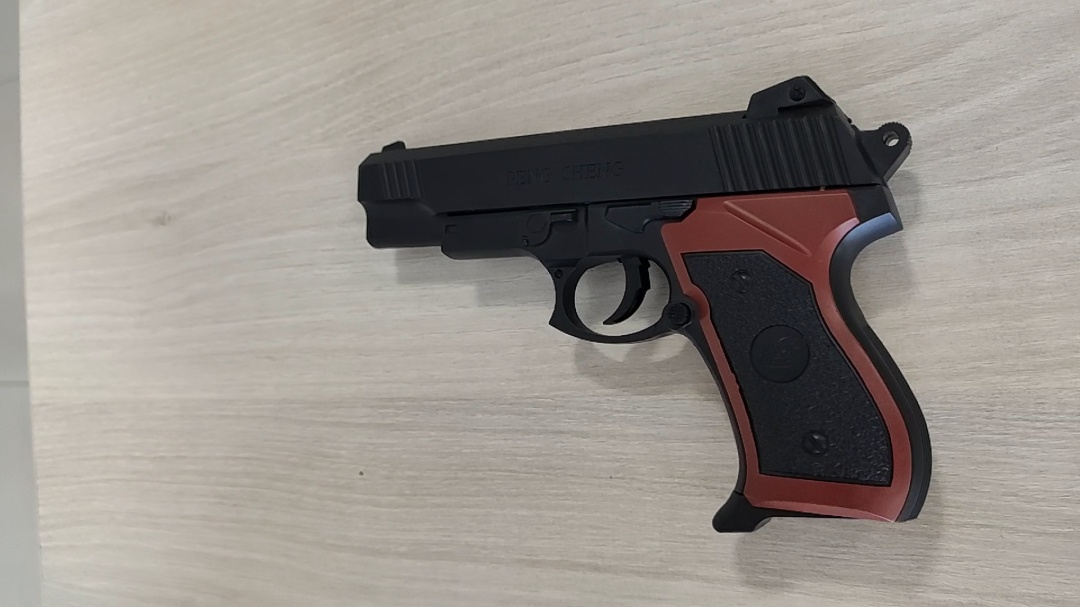gun: (355, 76, 936, 534)
